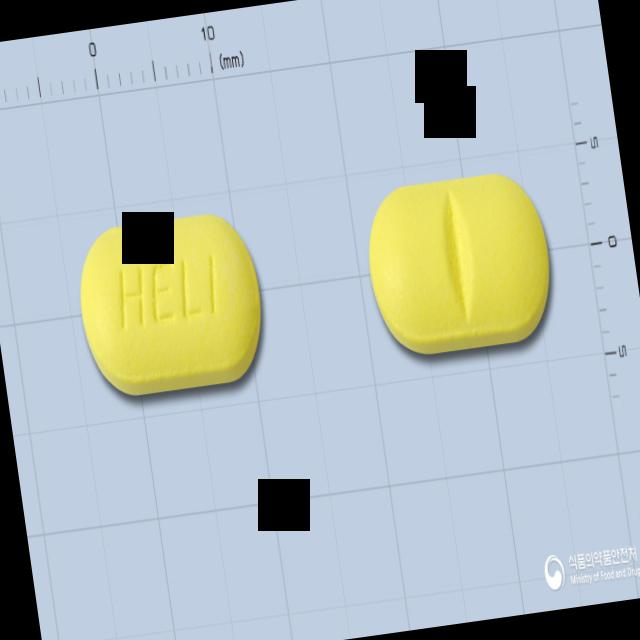Helico: (70, 208, 274, 403)
